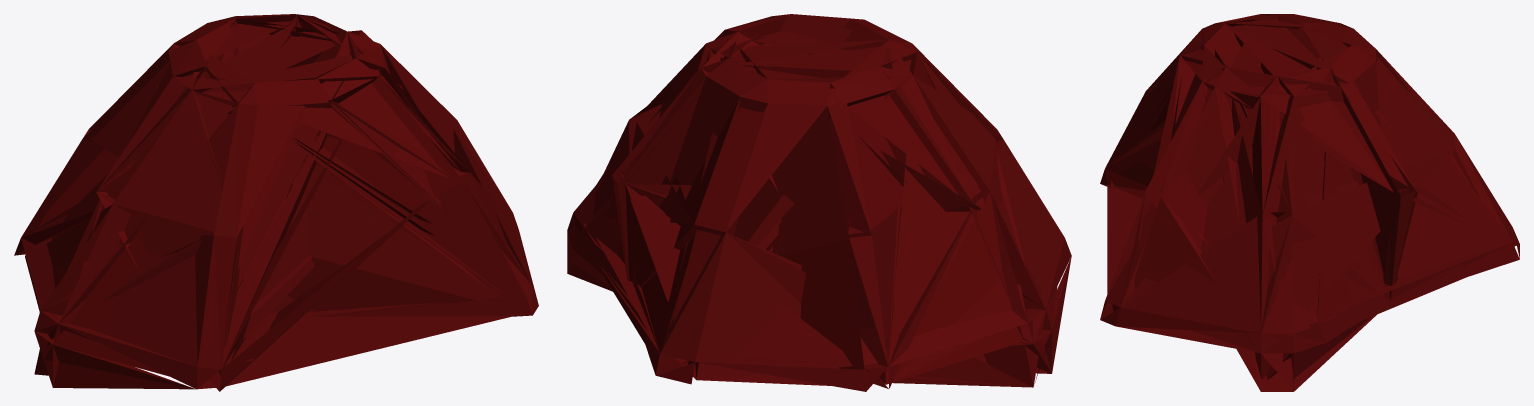
The model's file is S.S._Dolphin_Bowsprit_7.obj.
3 renders of one model, left to right at view 1: azimuth 30°, elevation 25°; view 2: azimuth 150°, elevation 25°; view 3: azimuth 270°, elevation 25°, orthographic. The views are drawn at different scales.
Visible parts, largest first — view 1: S.S._Dolphin_Bowsprit_7; view 2: S.S._Dolphin_Bowsprit_7; view 3: S.S._Dolphin_Bowsprit_7.
Boxes of the visible parts, left/top/right/bottom form: S.S._Dolphin_Bowsprit_7: left=14, top=14, right=538, bottom=391; S.S._Dolphin_Bowsprit_7: left=567, top=14, right=1071, bottom=391; S.S._Dolphin_Bowsprit_7: left=1100, top=14, right=1519, bottom=391.
Size of the model in its own units: 4.29 by 2.42 by 3.76.
